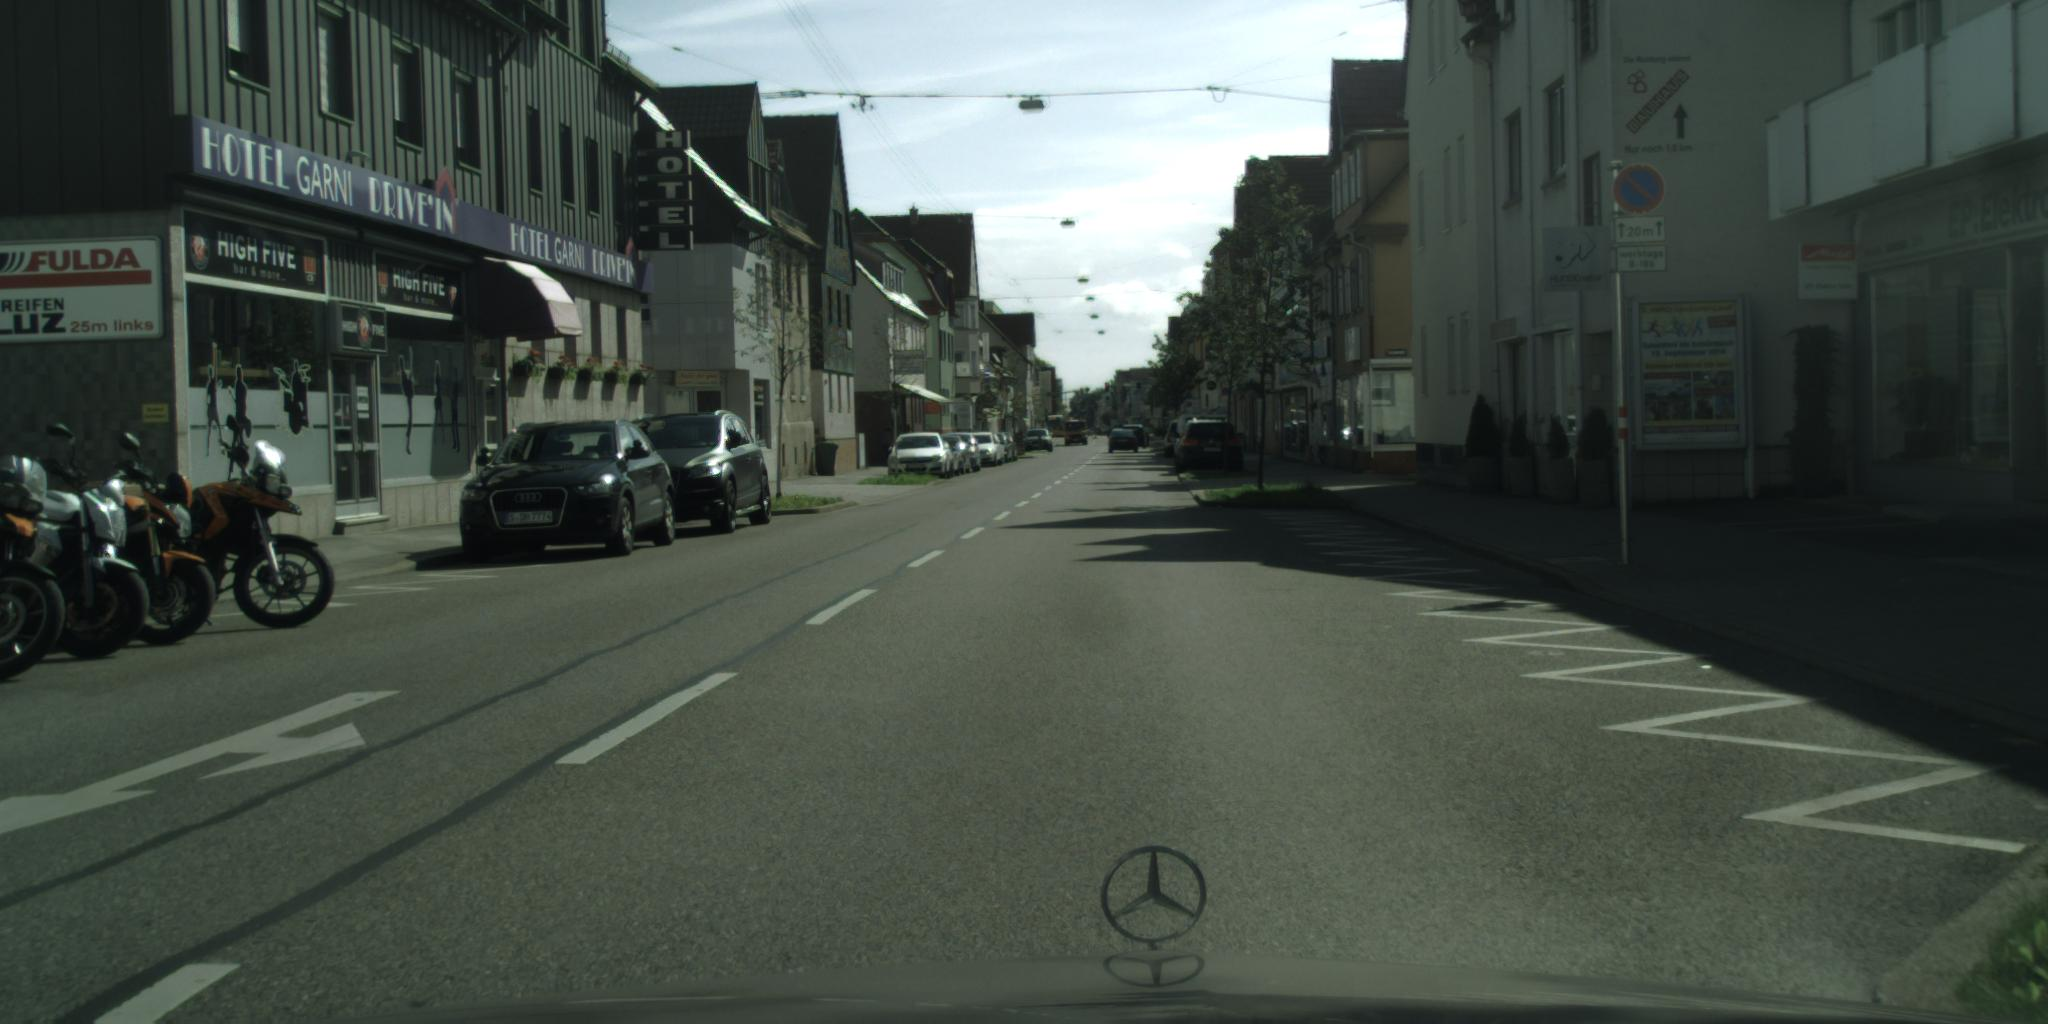car: (458, 421, 679, 563), (631, 410, 773, 534), (1172, 421, 1243, 475), (888, 432, 957, 481), (1021, 428, 1054, 455), (1108, 428, 1139, 455), (1121, 426, 1148, 451), (1100, 426, 1127, 439), (1051, 427, 1067, 439), (1085, 428, 1102, 438)
motorcycle: (155, 441, 337, 631), (30, 424, 152, 661), (98, 432, 216, 649), (1, 453, 85, 683)
truck: (1063, 421, 1089, 448)
